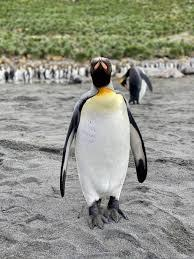king: (48, 45, 158, 231)
